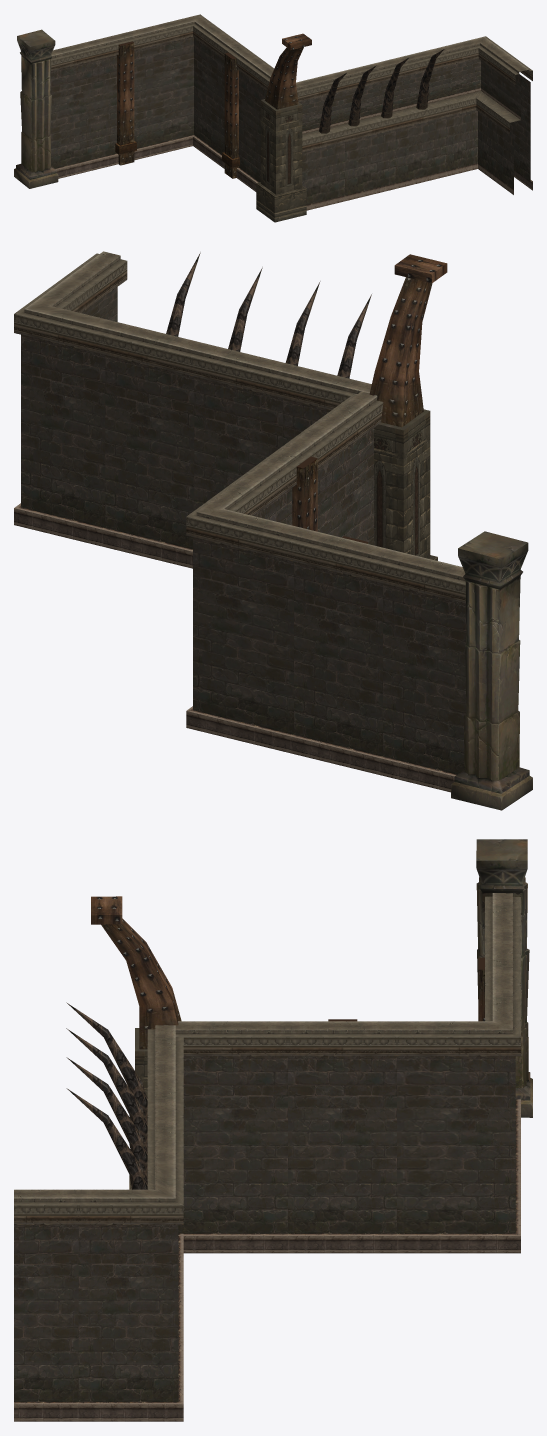
The model's file is blsd_weiqiang_1.FBX.
3 views of the same model, one above another, from view 1: azimuth 30°, elevation 25°; view 2: azimuth 150°, elevation 25°; view 3: azimuth 270°, elevation 25° (orthographic). The views are drawn at different scales.
Parts seen in each view (by area): view 1: blsd_weiqiang_02, blsd_weiqiang_01; view 2: blsd_weiqiang_02, blsd_weiqiang_01; view 3: blsd_weiqiang_02, blsd_weiqiang_01.
Boxes of the visible parts, <box> form: blsd_weiqiang_02: <box>50,14,532,210</box>; blsd_weiqiang_01: <box>14,29,444,222</box>; blsd_weiqiang_02: <box>14,251,466,792</box>; blsd_weiqiang_01: <box>166,252,532,810</box>; blsd_weiqiang_02: <box>14,893,520,1421</box>; blsd_weiqiang_01: <box>66,839,532,1189</box>.
Size of the model in its own units: 1521 by 1011 by 712.
